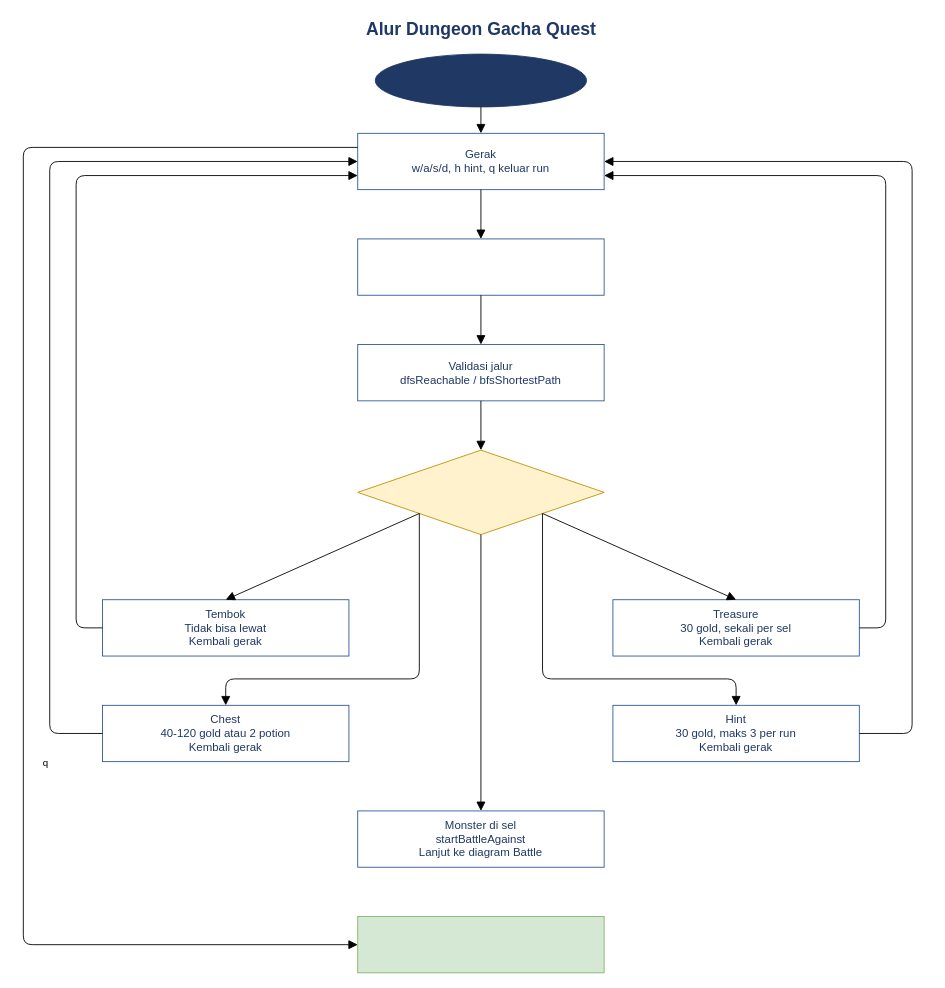
Image size: 945x988. Some labels were removed from this diagram. Each missing label, with the box of its shape:
Ada apa di sel ini?: (357, 449, 604, 535)
Hitung isi sel cellHash / dungeonCell sel (1,1) selalu lantai: (357, 238, 604, 295)
Keluar run (q) Kembali ke Hub: (357, 916, 604, 973)
Mulai Dungeon runDungeon / resumeDungeon: (374, 53, 587, 107)
